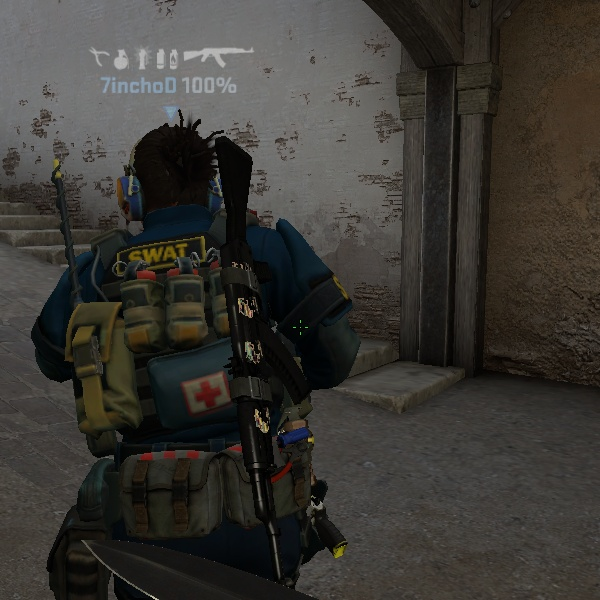ct_body: (7, 105, 388, 591)
ct_head: (98, 108, 250, 240)
